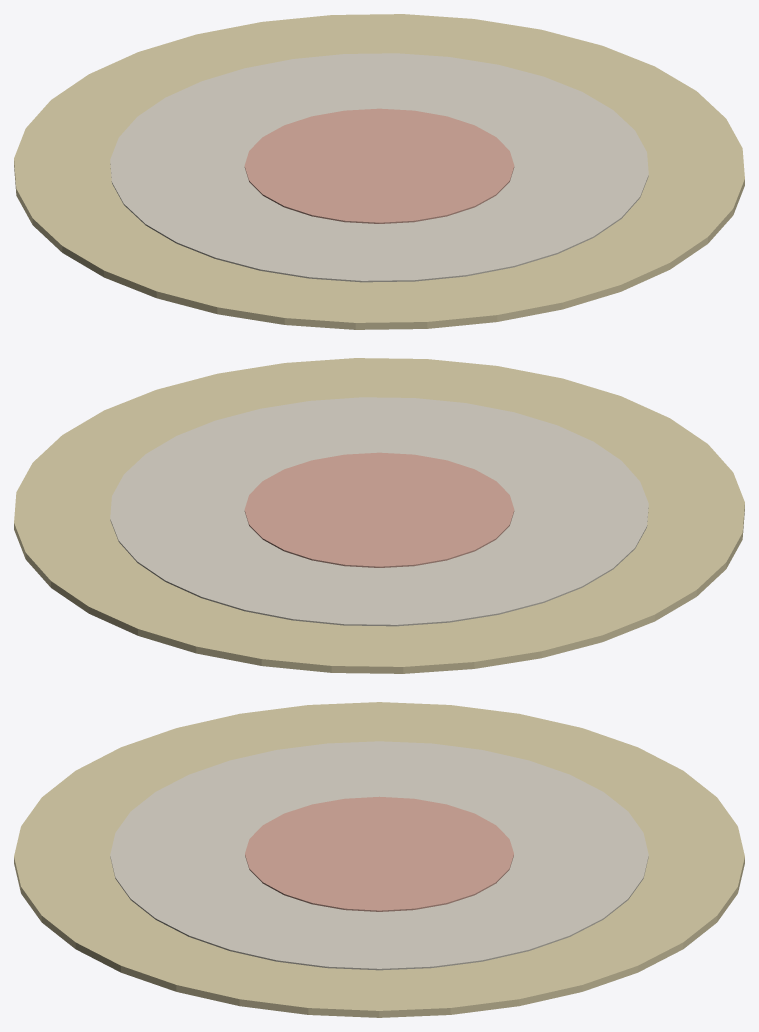
The model's file is furn_rug_round__butter.glb.
The picture shows the model from 3 angles, top to bottom: view 1: azimuth 30°, elevation 25°; view 2: azimuth 150°, elevation 25°; view 3: azimuth 270°, elevation 25°; orthographic projection.
Size of the model in its own units: 1.9 by 0.028 by 1.9.
